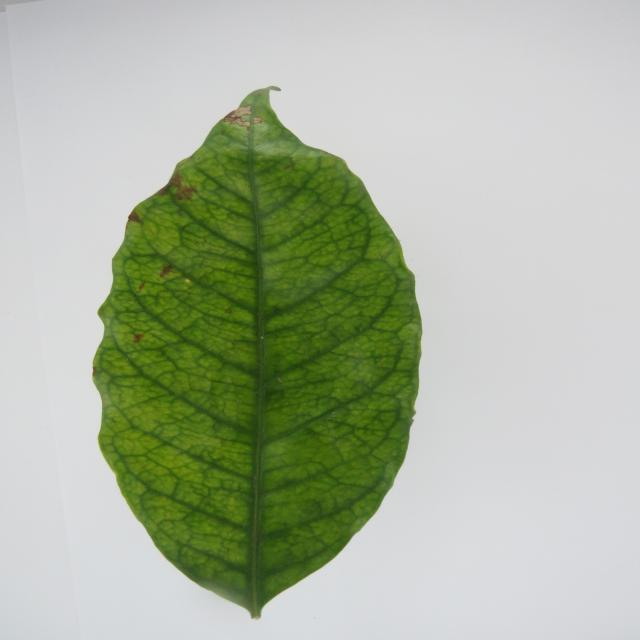DeficienciaNutricional-Hierro: (93, 88, 420, 618)
